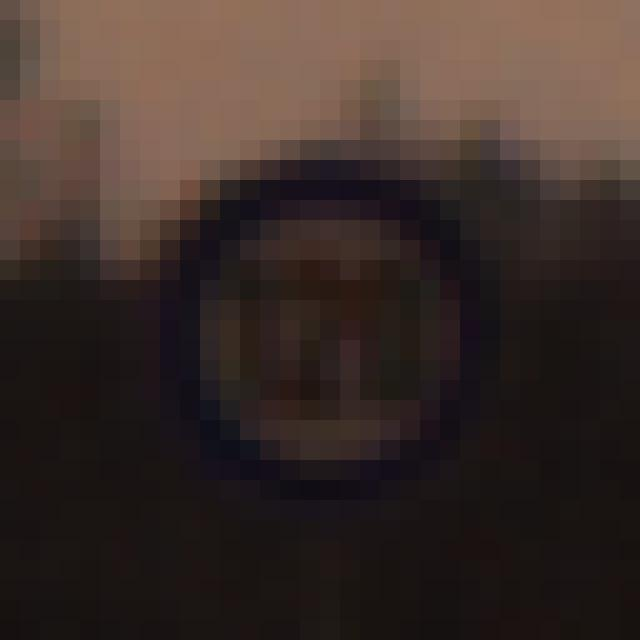SPEED LIMIT 120: (128, 147, 524, 524)
